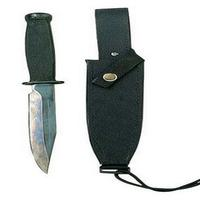knife: (15, 6, 64, 185)
